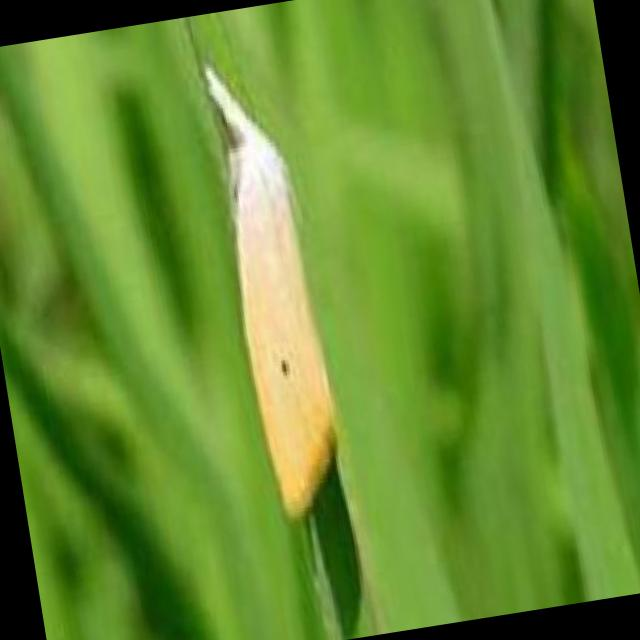stem-borer: (199, 54, 353, 524)
